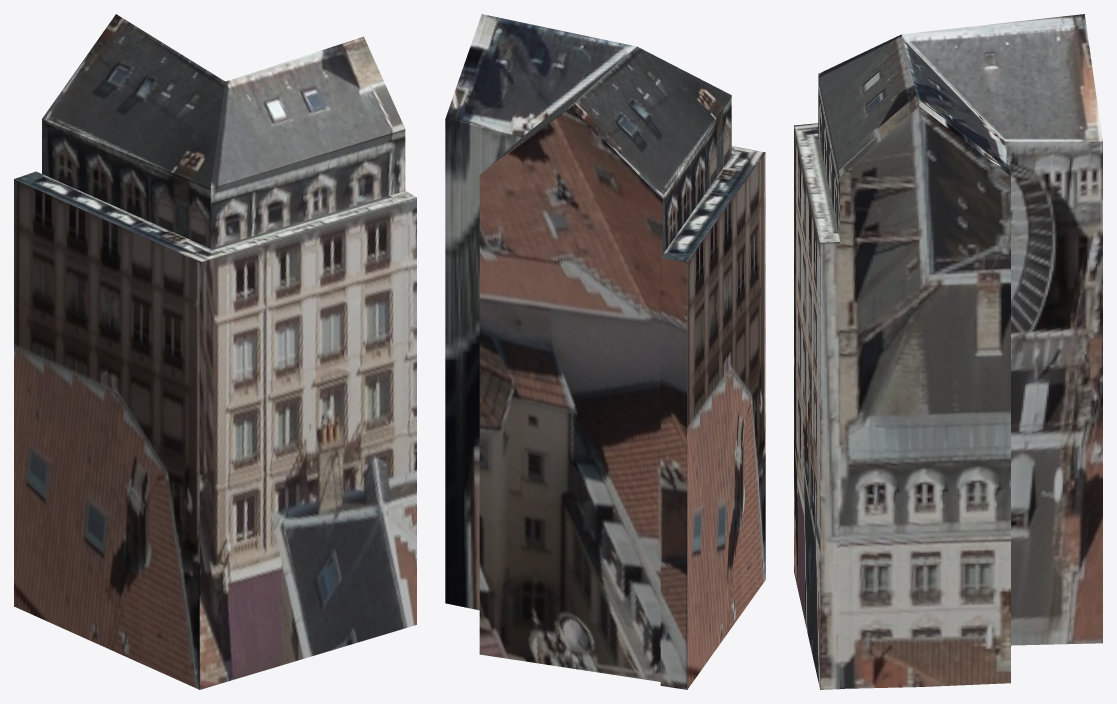
3 renders of one model, left to right at view 1: azimuth 30°, elevation 25°; view 2: azimuth 150°, elevation 25°; view 3: azimuth 270°, elevation 25°, orthographic. The views are drawn at different scales.
Visible parts, largest first — view 1: Z_UP; view 2: Z_UP; view 3: Z_UP.
Part boxes in pixels (x1,y1,x2,y2): Z_UP: (14,14,416,689); Z_UP: (445,14,765,689); Z_UP: (794,14,1102,689).
Bounding box in the file's own units: 13.66 × 25.84 × 12.32.
Materials: 2 (1 with a texture image).
